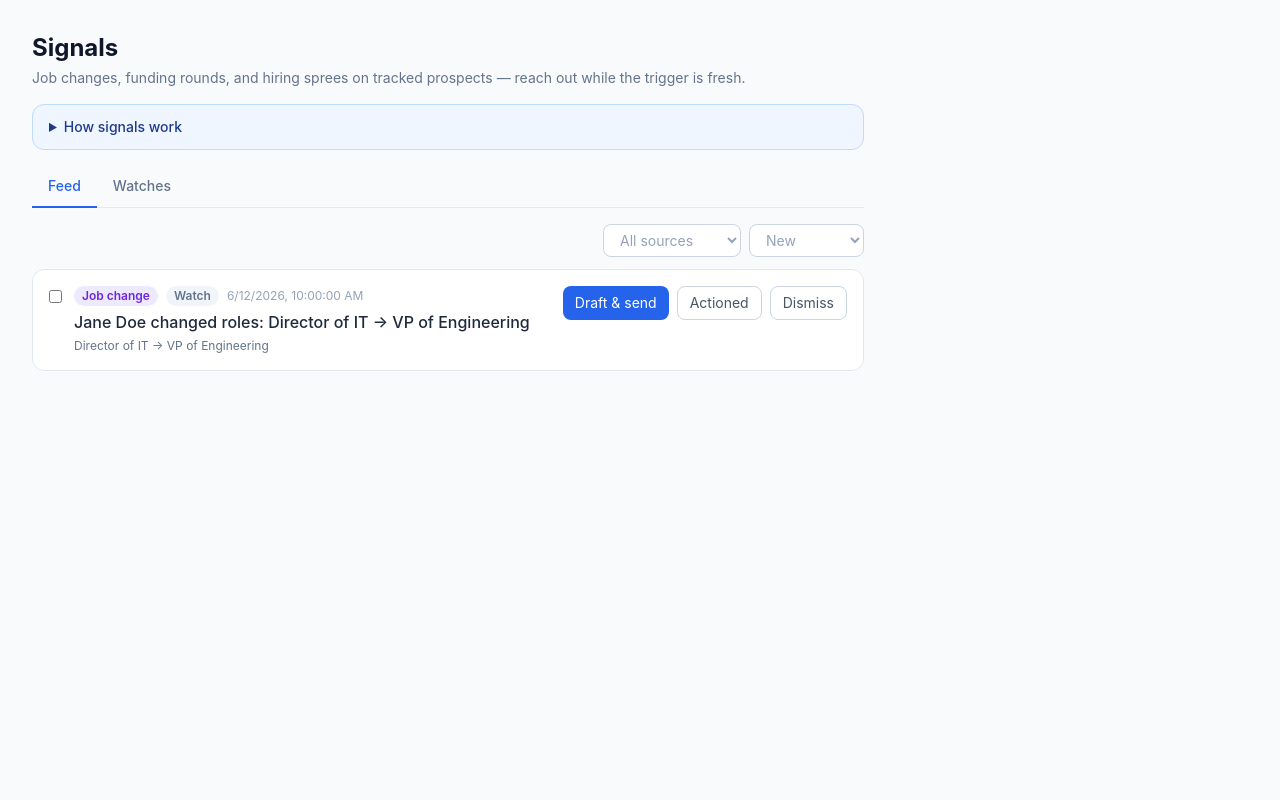
Test: Signal detail → draft → send › clicking a card opens the detail modal
Click the element with test id "signal-card-s1".
click(448, 320)  # box [32,269,864,371]
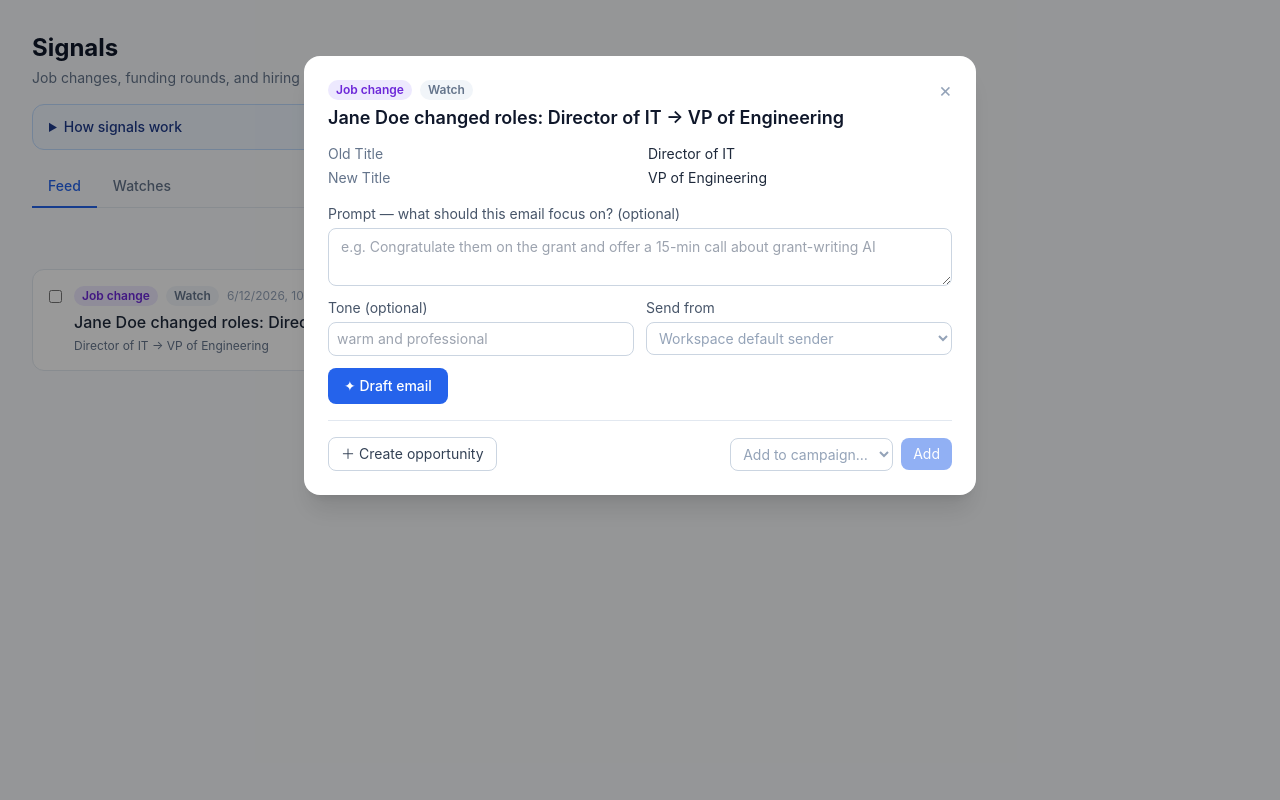
Check: the element with test id "signal-detail-modal" is shown
